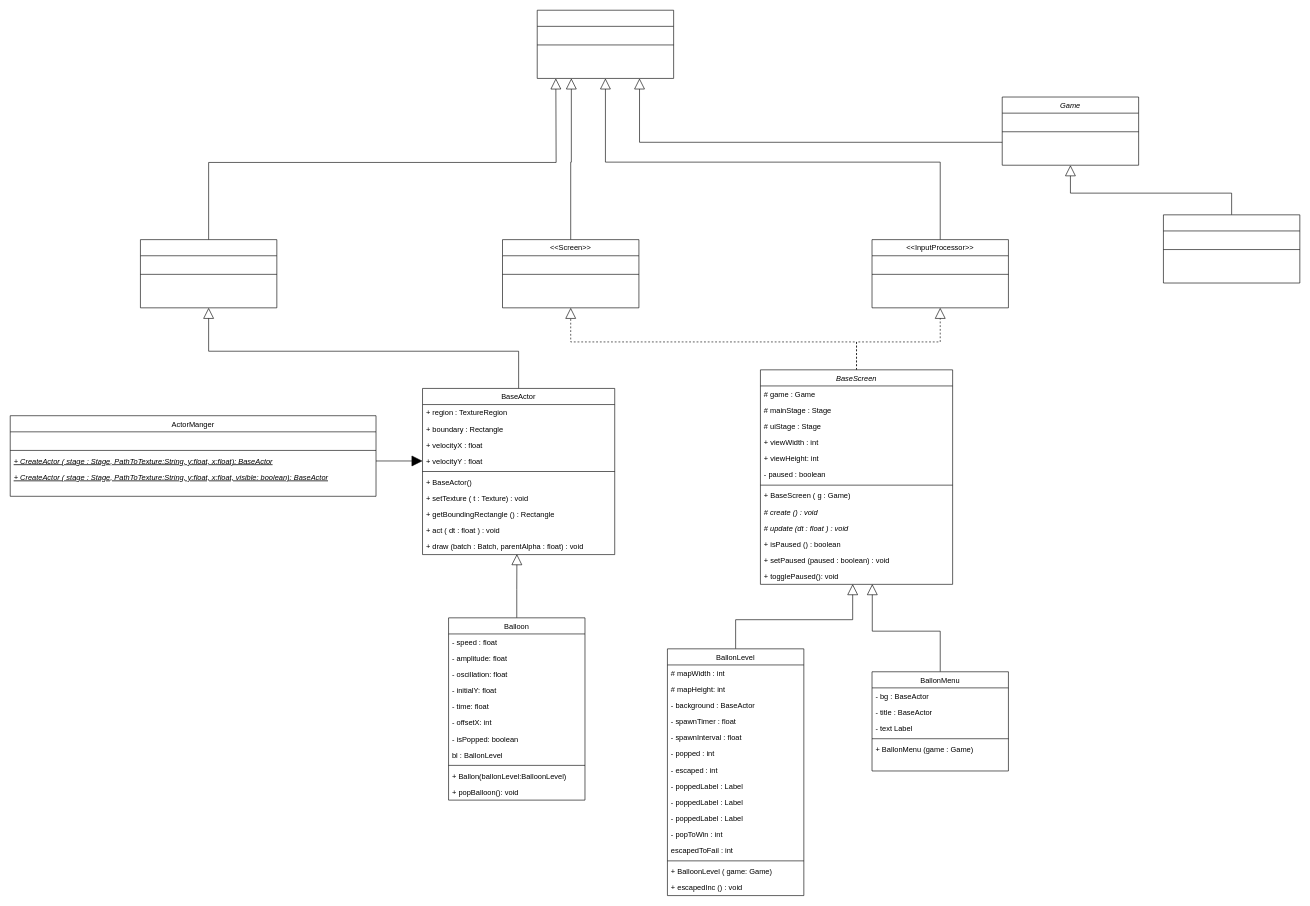
The diagram is 1310 pixels wide and 906 high, and some of its shapes have lost their labels. Each missing label, with the centre of its shape:
"Actor" belongs at point (208, 273).
"BalloonBuster" belongs at point (1231, 248).
"Desktop" belongs at point (605, 44).
